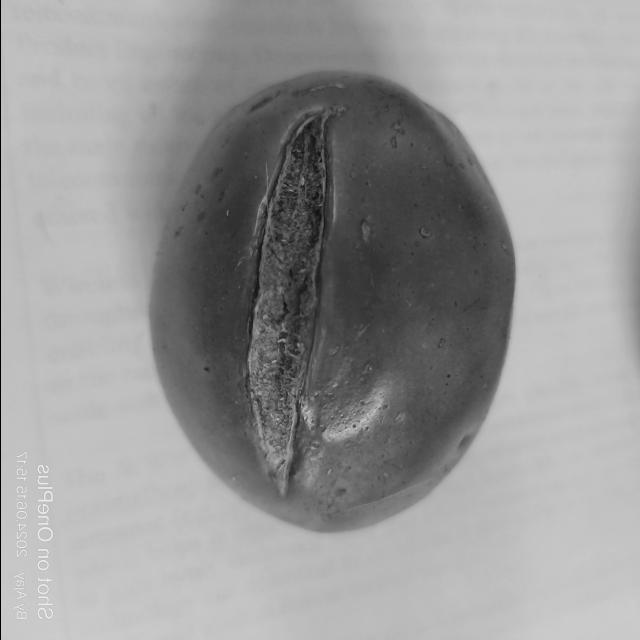tomato_cracking: (230, 101, 358, 511)
